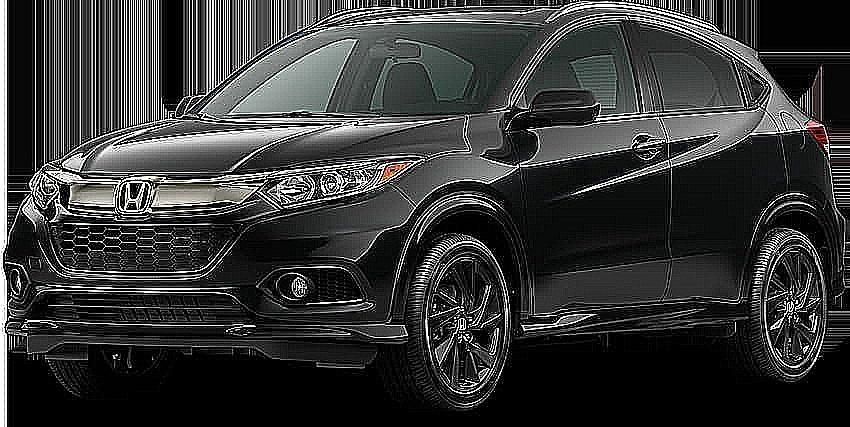Car hood: (39, 110, 473, 179)
Fender - -F-L-: (386, 101, 532, 338)
Fender - -R-L-: (763, 88, 834, 226)
Front bumper: (0, 211, 421, 376)
Headlight - -L-: (250, 151, 423, 219)
Headlight - -R-: (21, 161, 69, 224)
Passenger-s door - -F-L-: (532, 5, 670, 317)
Passenger-s door - -R-L-: (668, 26, 795, 317)
Rear bumper: (819, 217, 850, 306)
Rear light - -L-: (801, 103, 834, 157)
Side bumper - -L-: (512, 293, 762, 342)
Side mirror - -L-: (501, 82, 602, 136)
Side mirror - -R-: (168, 89, 211, 125)
